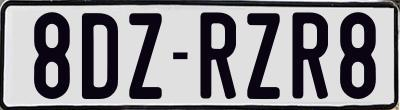8: (340, 12, 382, 101), (32, 10, 73, 101)
D: (79, 13, 119, 99)
R: (289, 9, 328, 102), (197, 12, 237, 101)
Z: (245, 10, 283, 98), (126, 12, 162, 104)
